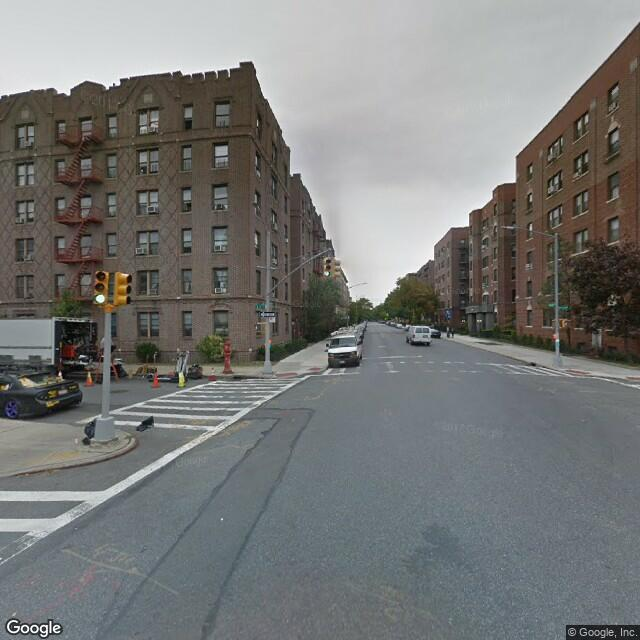litter: (73, 435, 79, 443), (219, 515, 224, 518)
